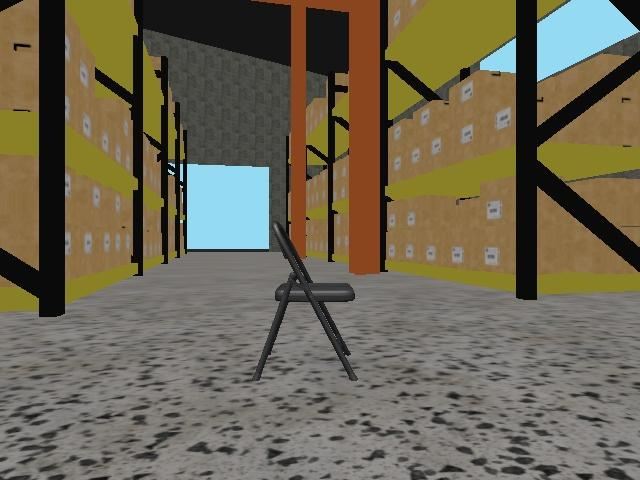chair: (251, 219, 359, 386)
